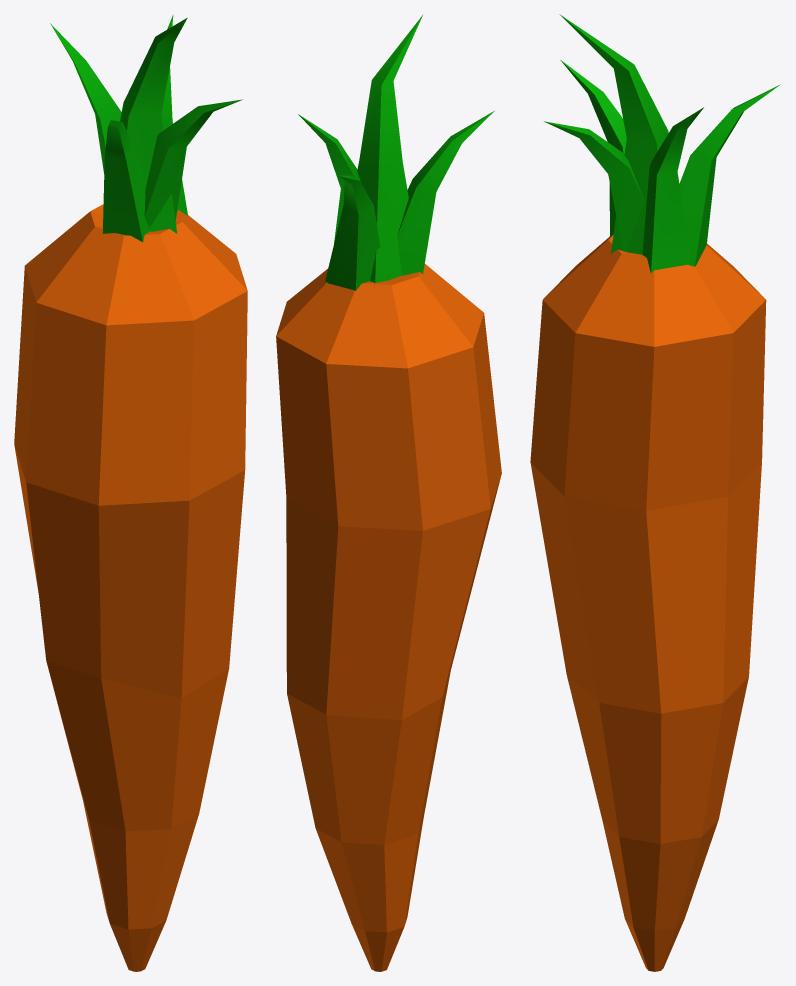
Rendered from Carrot.fbx.
3 views of the same model, side by side, from view 1: azimuth 30°, elevation 25°; view 2: azimuth 150°, elevation 25°; view 3: azimuth 270°, elevation 25° (orthographic). The views are drawn at different scales.
Visible parts, largest first — view 1: pCone1, pCone6, pCone9, pCone8, pCone7, pCone5; view 2: pCone1, pCone6, pCone7, pCone9, pCone5; view 3: pCone1, pCone6, pCone5, pCone7, pCone8, pCone9.
Part boxes in pixels (x1=…): pCone1: x1=14, y1=204, x2=247, y2=971; pCone6: x1=120, y1=17, x2=187, y2=233; pCone9: x1=102, y1=120, x2=149, y2=242; pCone8: x1=144, y1=99, x2=243, y2=228; pCone7: x1=50, y1=23, x2=121, y2=173; pCone5: x1=161, y1=15, x2=187, y2=215; pCone1: x1=276, y1=264, x2=501, y2=971; pCone6: x1=357, y1=14, x2=423, y2=282; pCone7: x1=325, y1=175, x2=380, y2=290; pCone9: x1=397, y1=111, x2=494, y2=275; pCone5: x1=298, y1=114, x2=360, y2=243; pCone1: x1=530, y1=234, x2=766, y2=971; pCone6: x1=559, y1=14, x2=668, y2=254; pCone5: x1=642, y1=107, x2=703, y2=273; pCone7: x1=679, y1=84, x2=780, y2=266; pCone8: x1=544, y1=121, x2=644, y2=251; pCone9: x1=560, y1=60, x2=626, y2=236.
Size of the model in its own units: 0.4962 by 2.19 by 0.5198.
